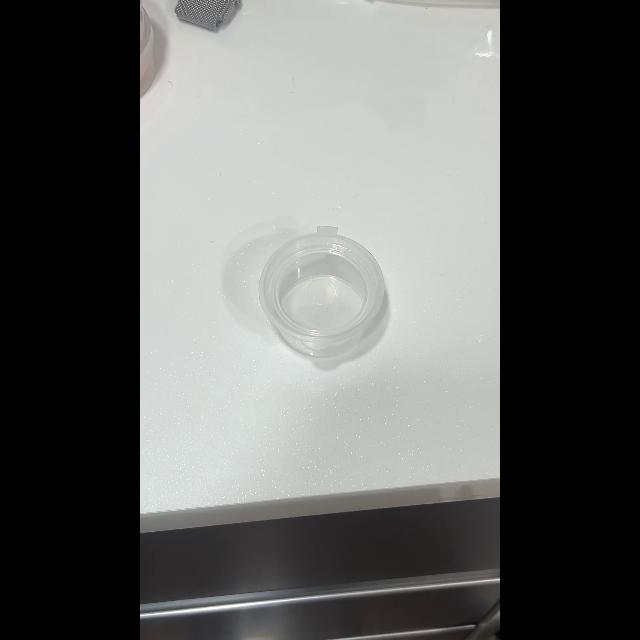clean: (248, 227, 386, 361)
